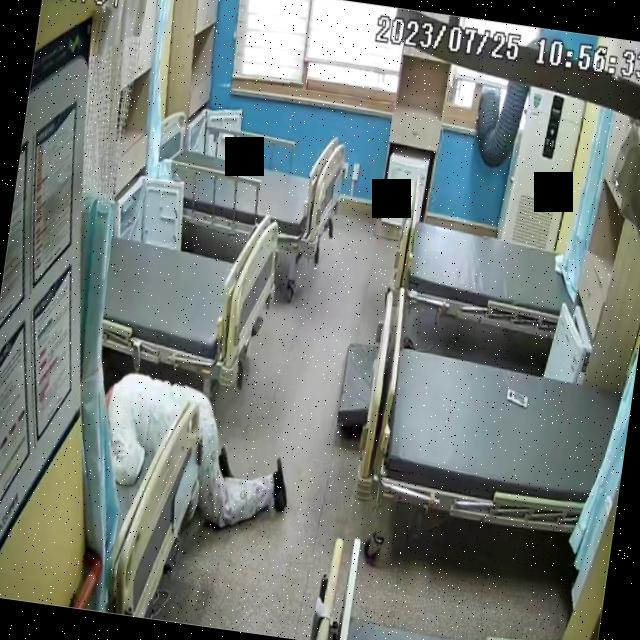bed: (371, 338, 627, 542), (93, 194, 288, 392), (146, 110, 346, 256), (390, 194, 586, 340)
fall: (93, 371, 304, 541)
patient: (94, 373, 304, 540)
